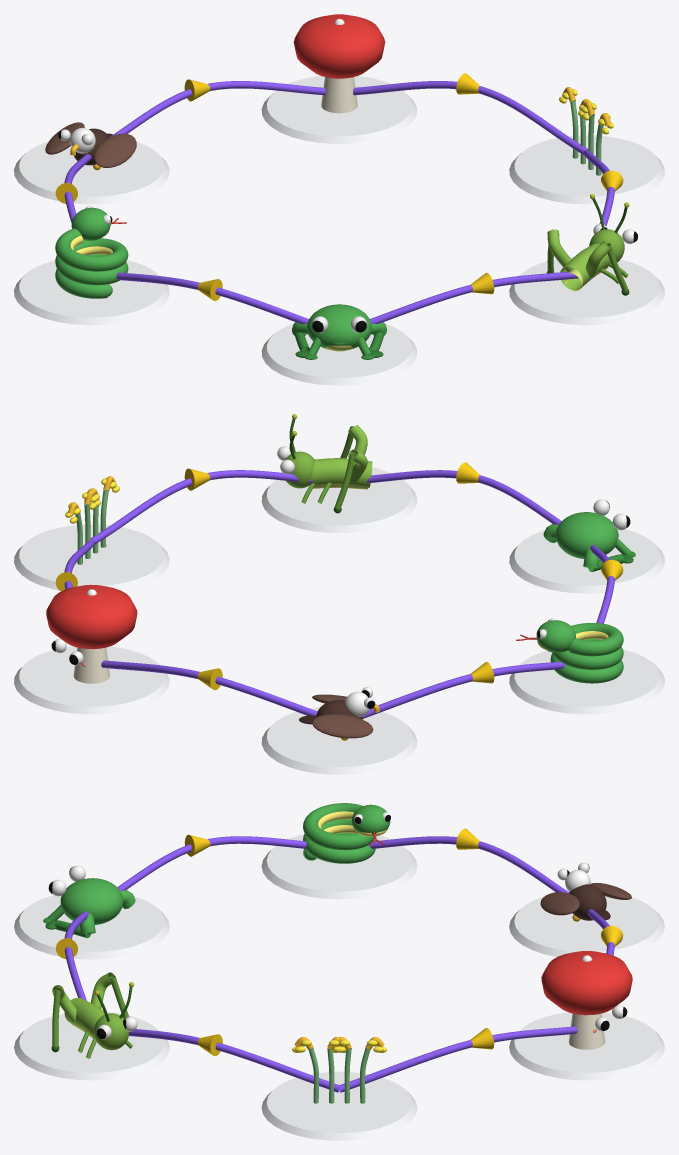
File: ekosistem_sawah_lengkap.glb
The picture shows the model from 3 angles, top to bottom: view 1: azimuth 30°, elevation 25°; view 2: azimuth 150°, elevation 25°; view 3: azimuth 270°, elevation 25°; orthographic projection.
Parts seen in each view (by area): view 1: ekosistem_sawah_lengkap, mesh_0 (×4), mesh_9 (×2), mesh_4, mesh_2; view 2: ekosistem_sawah_lengkap, mesh_0 (×4), mesh_9, mesh_10, mesh_4, mesh_2; view 3: ekosistem_sawah_lengkap, mesh_0 (×5), mesh_9 (×2), mesh_2, mesh_4, mesh_1.
Part boxes in pixels (x1,y1,x2,y2): ekosistem_sawah_lengkap: (14,73,664,385); mesh_0 (×4): (55,77,610,349); mesh_9 (×2): (94,14,385,167); mesh_4: (71,207,110,240); mesh_2: (589,229,624,262); ekosistem_sawah_lengkap: (14,462,664,774); mesh_0 (×4): (73,458,623,683); mesh_9: (46,584,137,649); mesh_10: (312,714,373,738); mesh_4: (536,620,575,652); mesh_2: (282,451,314,488); ekosistem_sawah_lengkap: (14,828,664,1140); mesh_0 (×5): (60,803,606,1049); mesh_9 (×2): (540,892,632,1015); mesh_2: (94,1013,128,1050); mesh_4: (351,804,390,836); mesh_1: (316,811,357,858).
Size of the model in its own units: 4.2 by 0.5845 by 3.76.
